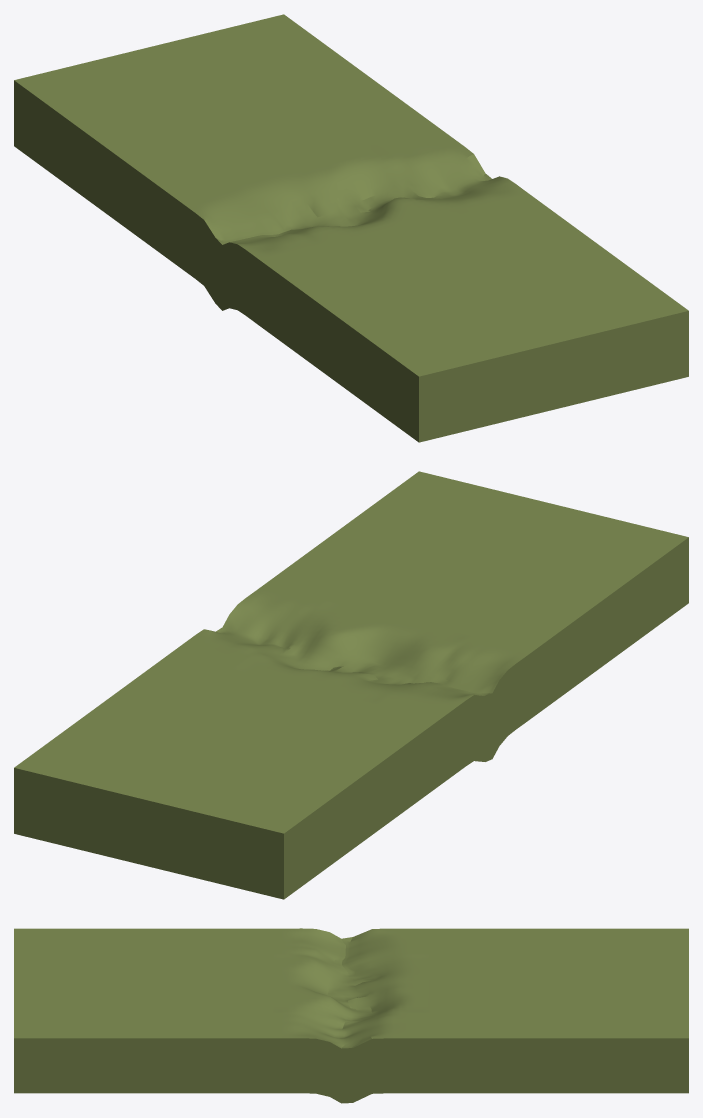
Rendered from Tole_5.fbx.
The picture shows the model from 3 angles, top to bottom: view 1: azimuth 30°, elevation 25°; view 2: azimuth 150°, elevation 25°; view 3: azimuth 270°, elevation 25°; orthographic projection. The views are drawn at different scales.
Visible parts, largest first — view 1: Tile 3.002; view 2: Tile 3.002; view 3: Tile 3.002.
Boxes of the visible parts, x1,y1,x2,y2 form: Tile 3.002: (14,14,688,442); Tile 3.002: (14,471,688,899); Tile 3.002: (14,928,688,1103).
Size of the model in its own units: 5000 by 1386 by 12991.
